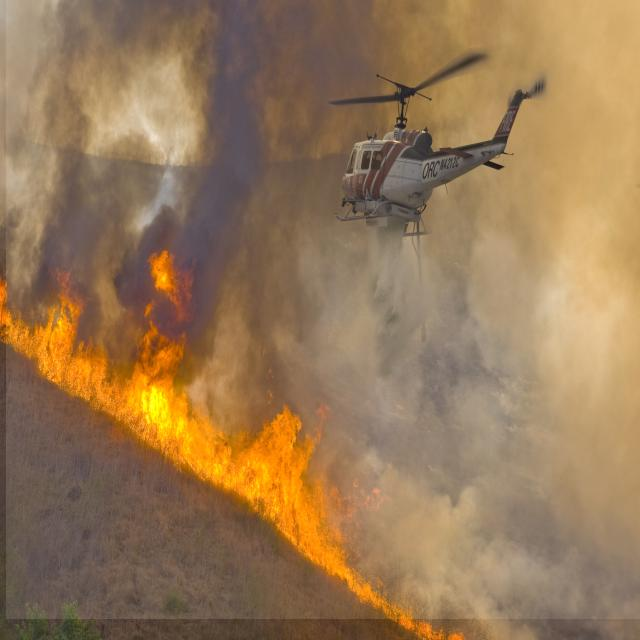Fire: (0, 249, 473, 640)
Smoke: (6, 0, 640, 619)
